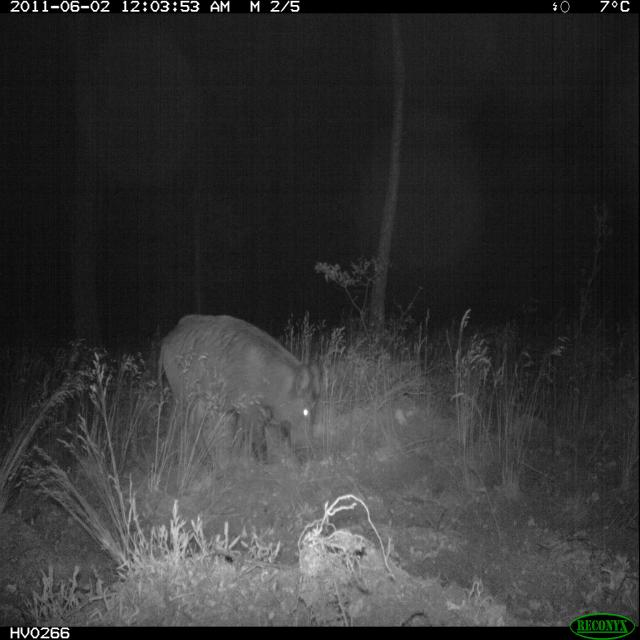boar: (119, 308, 305, 425)
